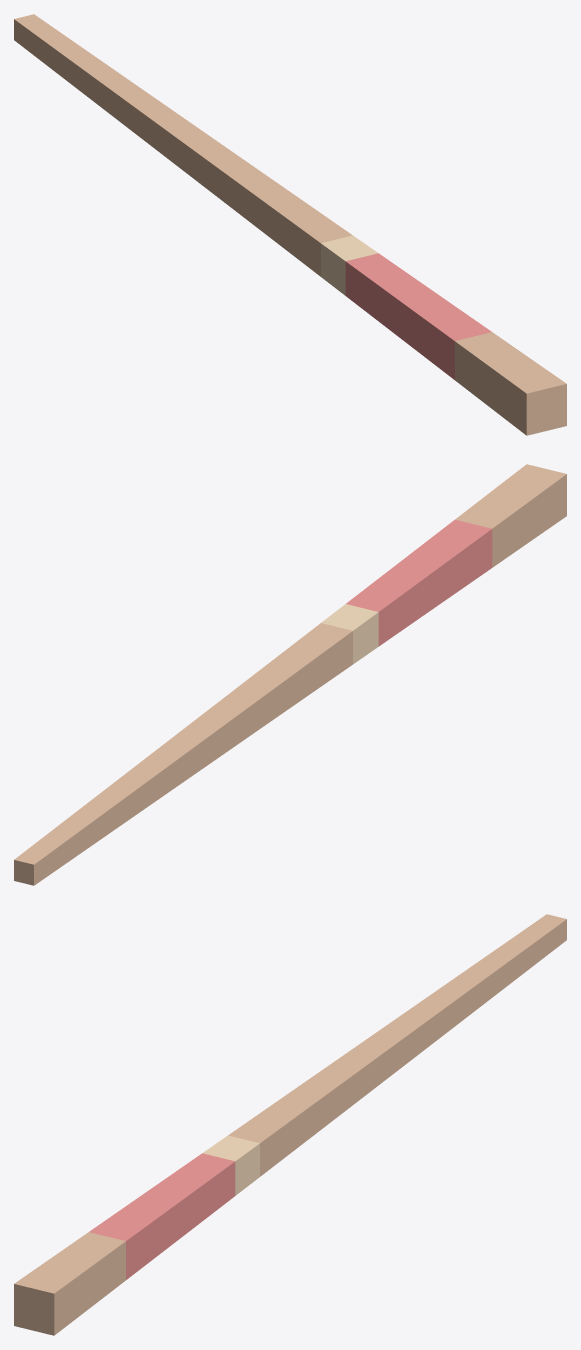
File: chopstick_fancy.glb
3 renders of one model, top to bottom at view 1: azimuth 30°, elevation 25°; view 2: azimuth 150°, elevation 25°; view 3: azimuth 330°, elevation 25°, orthographic.
Parts seen in each view (by area): view 1: chopstickFancy; view 2: chopstickFancy; view 3: chopstickFancy.
Part boxes in pixels (x1,y1,x2,y2): chopstickFancy: (14, 14, 566, 435); chopstickFancy: (14, 464, 566, 885); chopstickFancy: (14, 914, 566, 1335).
Size of the model in its own units: 0.02 by 0.02 by 0.45.
